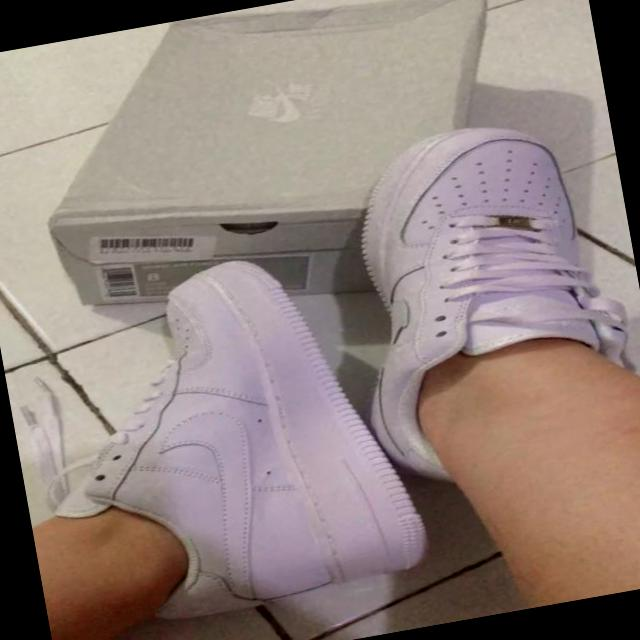nike_fake_airforce: (325, 105, 640, 500)
